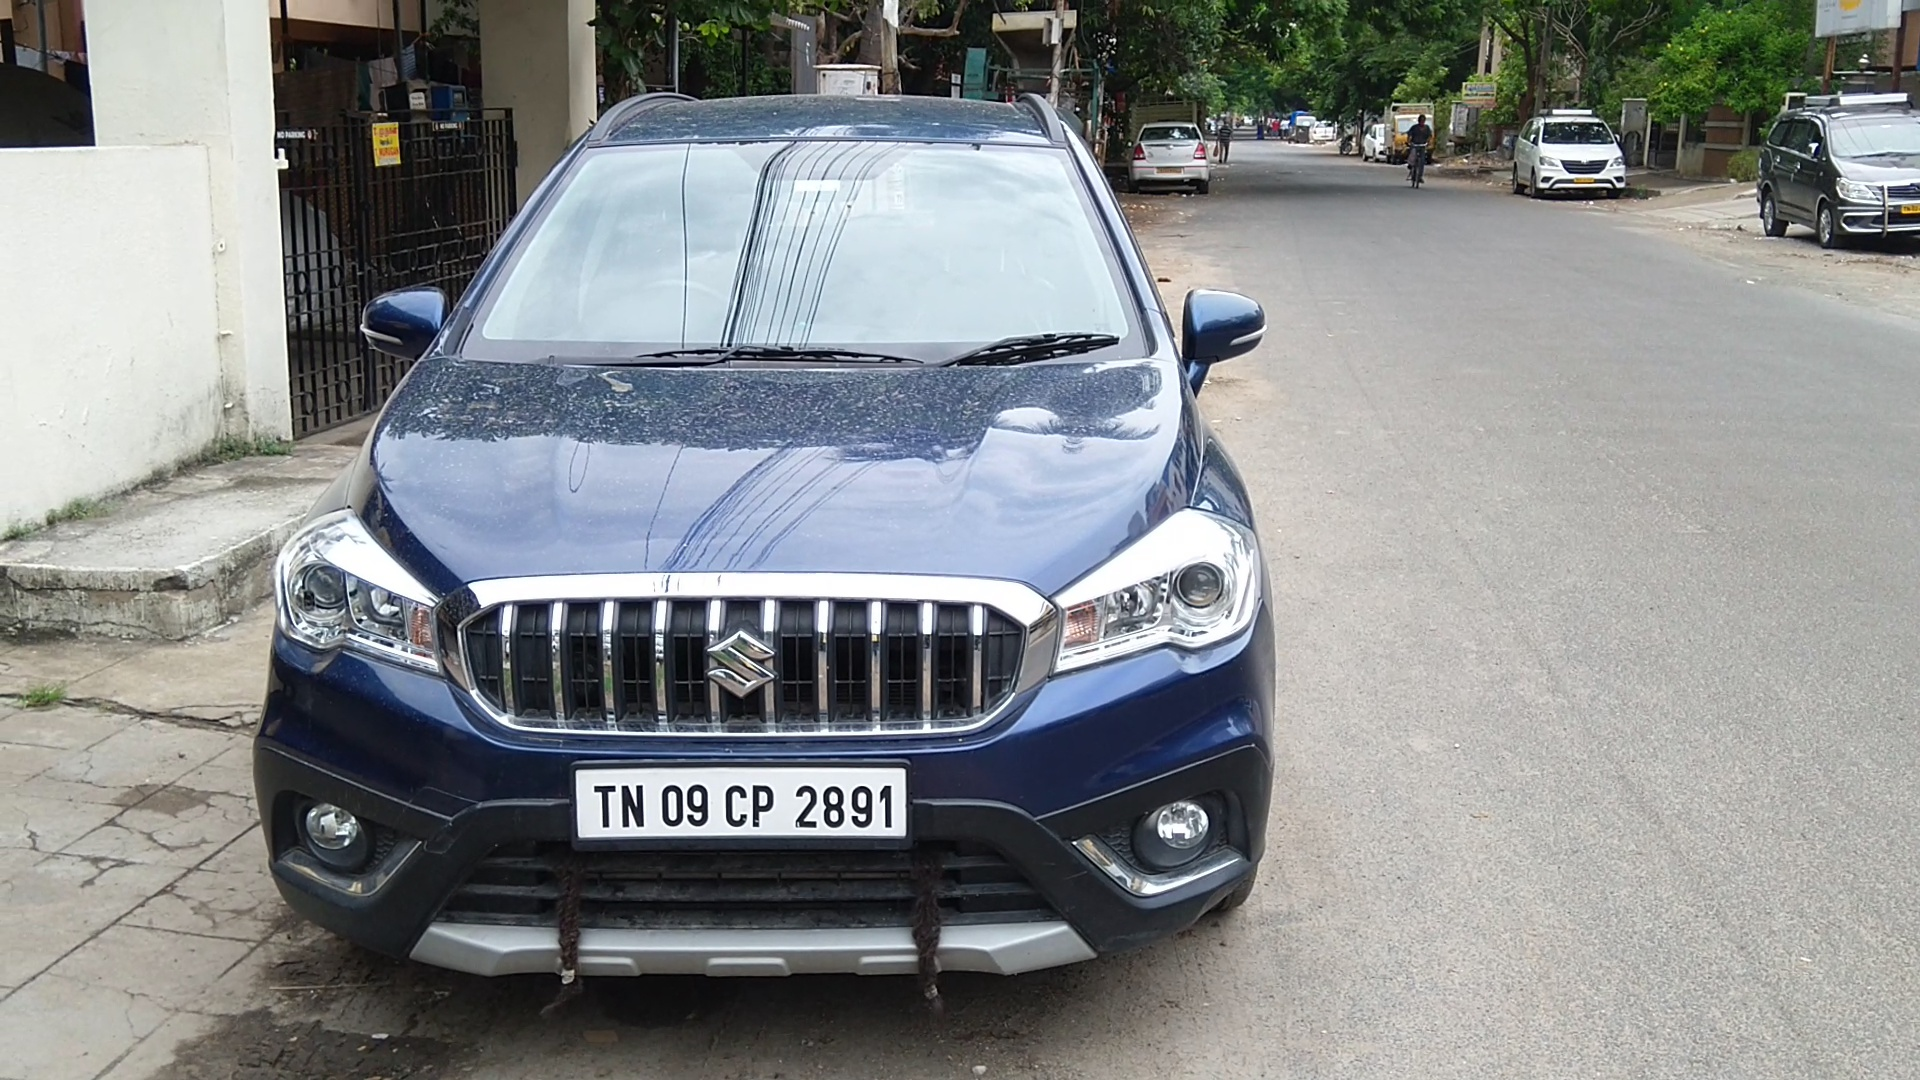front_grill: (440, 570, 1056, 752)
headlamp: (1054, 495, 1258, 673), (276, 508, 440, 680)
ovr_mirror: (1182, 284, 1269, 375), (357, 295, 442, 353)
